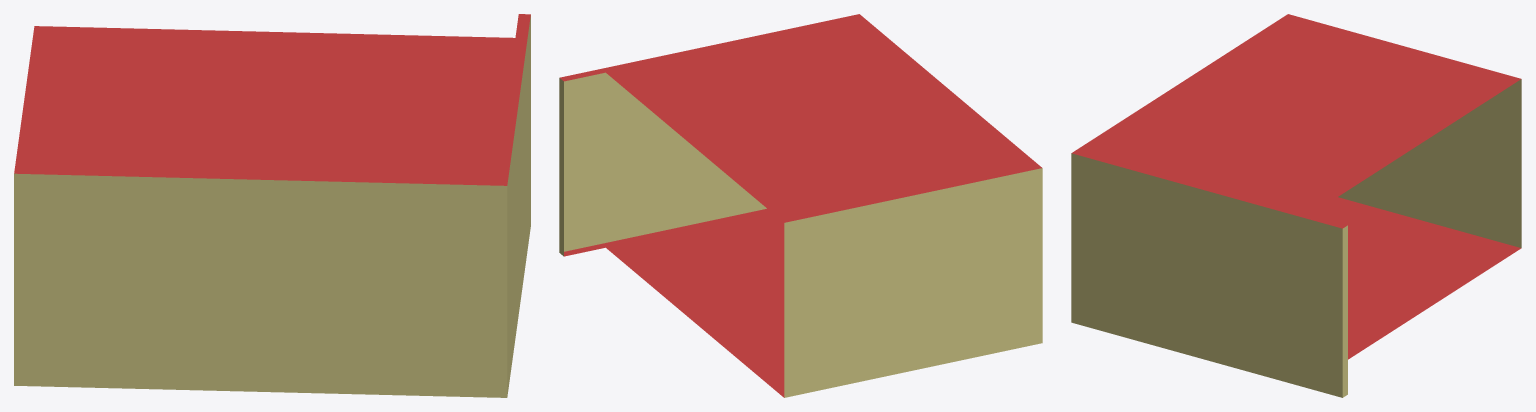
The picture shows the model from 3 angles, left to right: view 1: azimuth 30°, elevation 25°; view 2: azimuth 150°, elevation 25°; view 3: azimuth 270°, elevation 25°; orthographic projection. The views are drawn at different scales.
Bounding box in the file's own units: 12.99 × 11.52 × 4.78.
